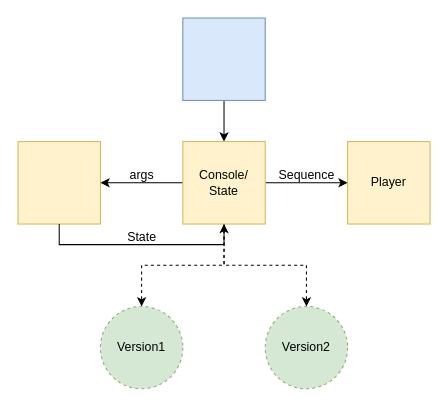
Some shapes in this 448 by 407 pixel diagram are drawn without their labels. The shapes that lost their labels are listed below. From the top down, each one's centre as x and y in pixels, then its label:
At point 223,58: "App".
At point 58,182: "Validator".
